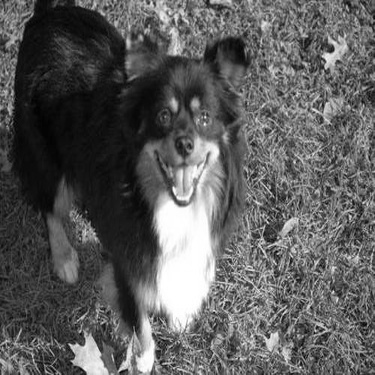dog: (10, 2, 259, 373)
